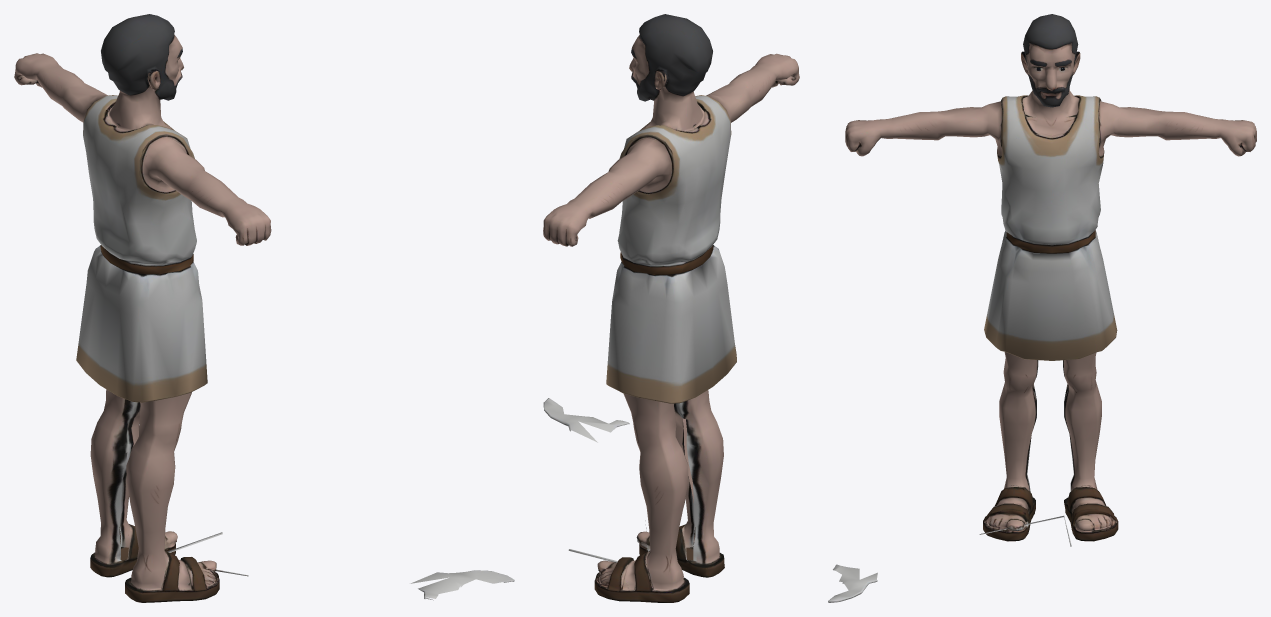
Rendered from char_doryseus_08_smart_5000.glb.
3 views of the same model, side by side, from view 1: azimuth 30°, elevation 25°; view 2: azimuth 150°, elevation 25°; view 3: azimuth 270°, elevation 25° (orthographic). The views are drawn at different scales.
Parts seen in each view (by area): view 1: tripo_node_b70132a6-e649-4b28-a031-30ac7a8f3c96; view 2: tripo_node_b70132a6-e649-4b28-a031-30ac7a8f3c96; view 3: tripo_node_b70132a6-e649-4b28-a031-30ac7a8f3c96.
Boxes of the visible parts, left/top/right/bottom form: tripo_node_b70132a6-e649-4b28-a031-30ac7a8f3c96: left=14, top=14, right=514, bottom=602; tripo_node_b70132a6-e649-4b28-a031-30ac7a8f3c96: left=543, top=14, right=799, bottom=602; tripo_node_b70132a6-e649-4b28-a031-30ac7a8f3c96: left=828, top=14, right=1256, bottom=602.
Bounding box in the file's own units: 0.9757 × 1.8 × 1.39.
1 material, 1 textured.
